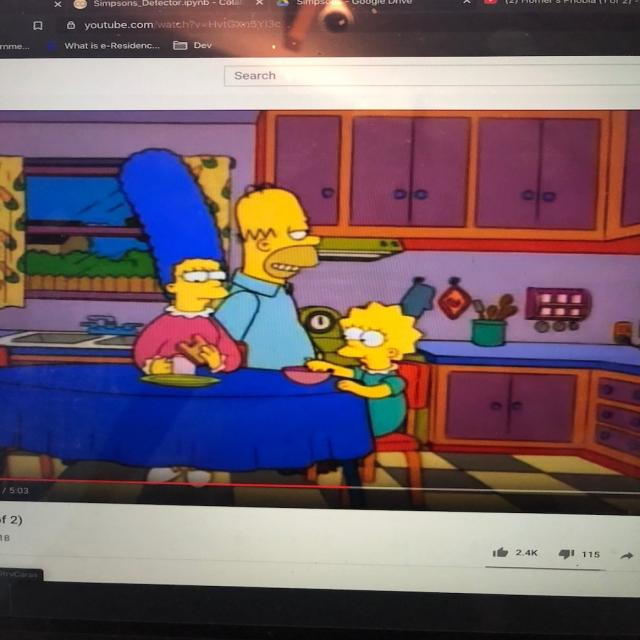Homer Simpson: (232, 178, 326, 285)
Lisa Simpson: (332, 297, 427, 375)
Marge Simpson: (116, 144, 232, 322)
